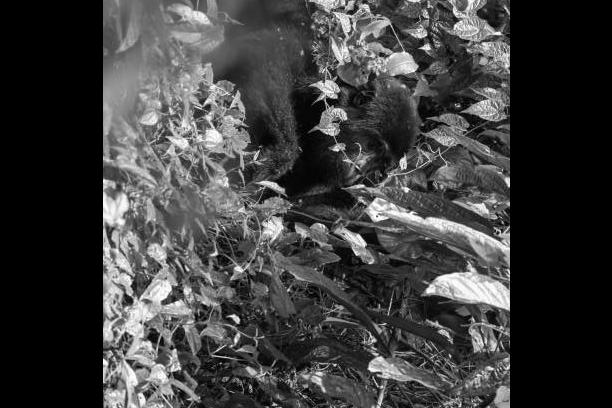goriile_montagne: (219, 0, 465, 246)
